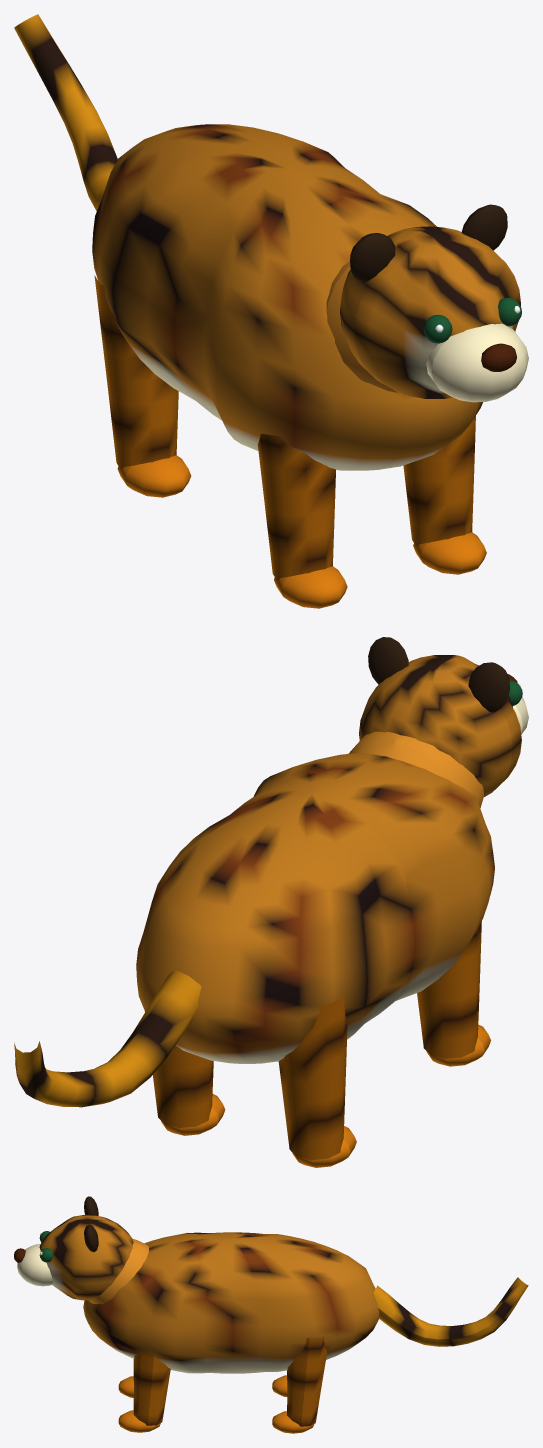
File: jaguar.glb
3 renders of one model, top to bottom at view 1: azimuth 30°, elevation 25°; view 2: azimuth 150°, elevation 25°; view 3: azimuth 270°, elevation 25°, orthographic. The views are drawn at different scales.
Visible parts, largest first — view 1: Body, LegFL (×3), Head, Tail, Muzzle, LegFR_Paw, LegBL_Paw, LegFL_Paw, Neck, Ear_L, Ear_R, Nose; view 2: Body, LegFL (×3), Head, Tail, Neck, Ear_L, Ear_R, LegFL_Paw, LegBR_Paw, LegBL_Paw; view 3: Body, Head, LegFL (×2), Tail, Neck, Muzzle, LegFR_Paw, LegBR_Paw, Ear_R.
Boxes of the visible parts, box(x1,y1,x2,y2) form: Body: box(92, 124, 482, 470); LegFL (×3): box(94, 275, 475, 580); Head: box(340, 226, 520, 398); Tail: box(14, 14, 117, 211); Muzzle: box(426, 323, 528, 402); LegFR_Paw: box(413, 532, 486, 574); LegBL_Paw: box(117, 455, 191, 497); LegFL_Paw: box(274, 566, 347, 608); Neck: box(326, 261, 398, 392); Ear_L: box(350, 233, 395, 282); Ear_R: box(461, 204, 507, 250); Nose: box(481, 343, 516, 371); Body: box(136, 752, 494, 1063); LegFL (×3): box(144, 921, 481, 1159); Head: box(359, 655, 521, 796); Tail: box(14, 971, 201, 1107); Neck: box(348, 731, 483, 807); Ear_L: box(468, 662, 509, 712); Ear_R: box(368, 637, 408, 684); LegFL_Paw: box(426, 1024, 490, 1066); LegBR_Paw: box(161, 1094, 225, 1135); LegBL_Paw: box(292, 1126, 356, 1167); Body: box(83, 1232, 379, 1373); Head: box(39, 1215, 133, 1300); LegFL (×2): box(133, 1336, 327, 1426); Tail: box(373, 1277, 528, 1346); Neck: box(89, 1239, 148, 1303); Muzzle: box(17, 1244, 52, 1286); LegFR_Paw: box(118, 1410, 160, 1432); LegBR_Paw: box(272, 1411, 314, 1433); Ear_R: box(84, 1224, 98, 1252).
Size of the model in its own units: 0.7372 by 1.1 by 2.55.
